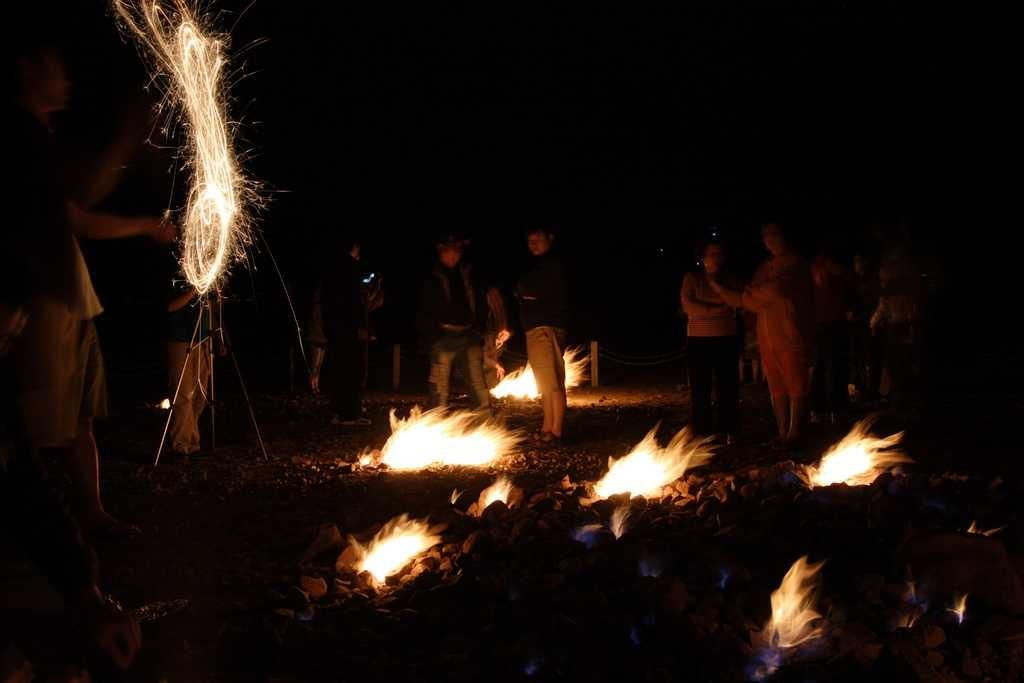fire: (150, 20, 262, 291), (366, 405, 520, 475), (590, 430, 710, 497), (810, 423, 928, 483), (760, 553, 833, 649), (354, 513, 456, 581)
